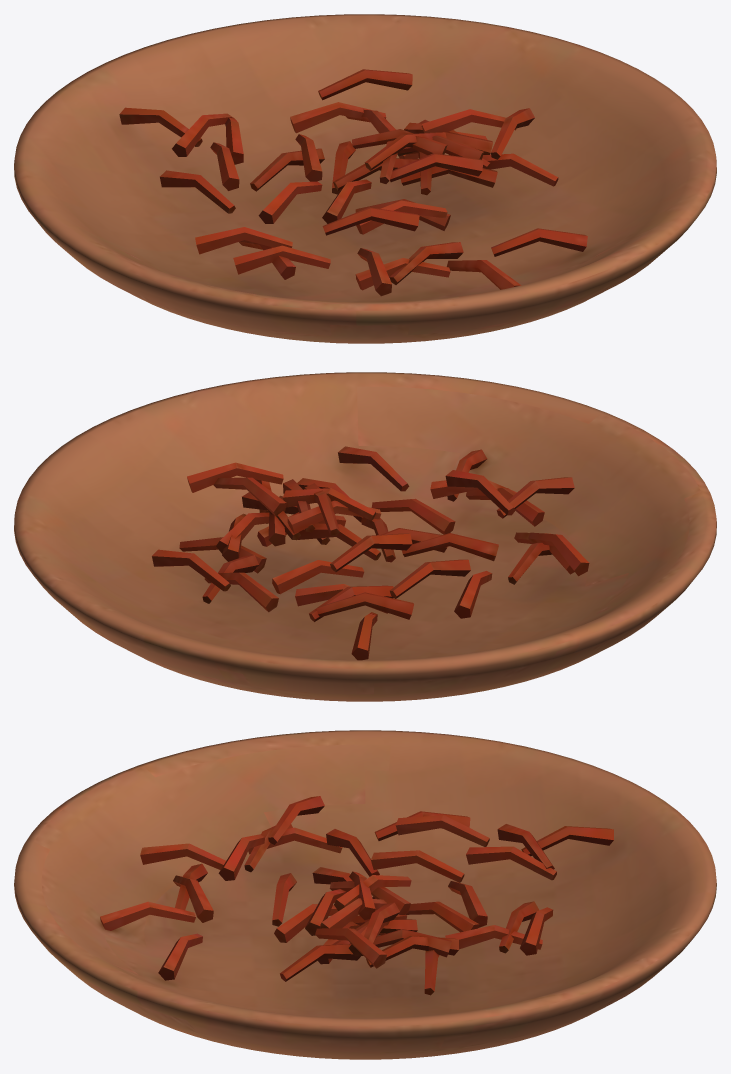
File: saffron.glb
3 renders of one model, top to bottom at view 1: azimuth 30°, elevation 25°; view 2: azimuth 150°, elevation 25°; view 3: azimuth 270°, elevation 25°, orthographic.
Parts seen in each view (by area): view 1: saffron; view 2: saffron; view 3: saffron.
Part boxes in pixels (x1,y1,x2,y2): saffron: [14, 14, 716, 343]; saffron: [14, 372, 716, 701]; saffron: [14, 730, 716, 1059].
Bounding box in the file's own units: 0.0901 × 0.0167 × 0.0901.
1 material, 1 textured.
